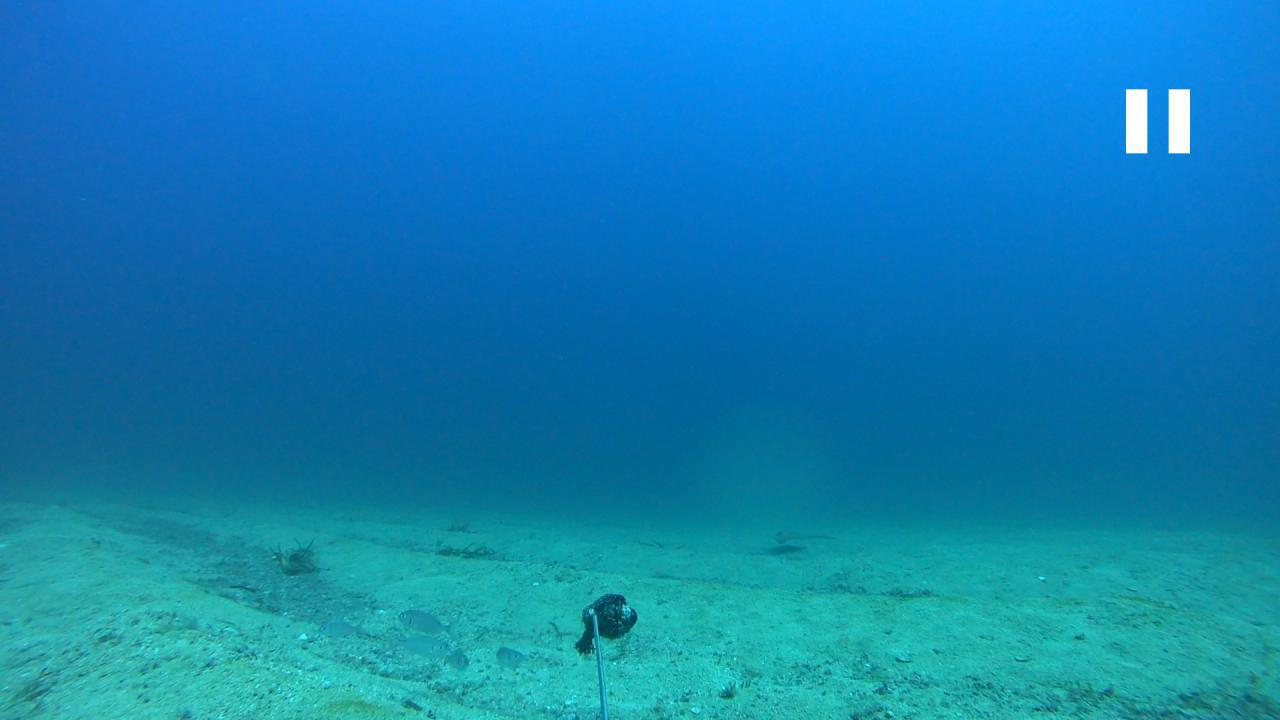dasyatis: (770, 526, 837, 545)
pagellus: (392, 602, 458, 638), (390, 626, 450, 657), (316, 618, 367, 641), (439, 648, 474, 672), (498, 647, 527, 669)
